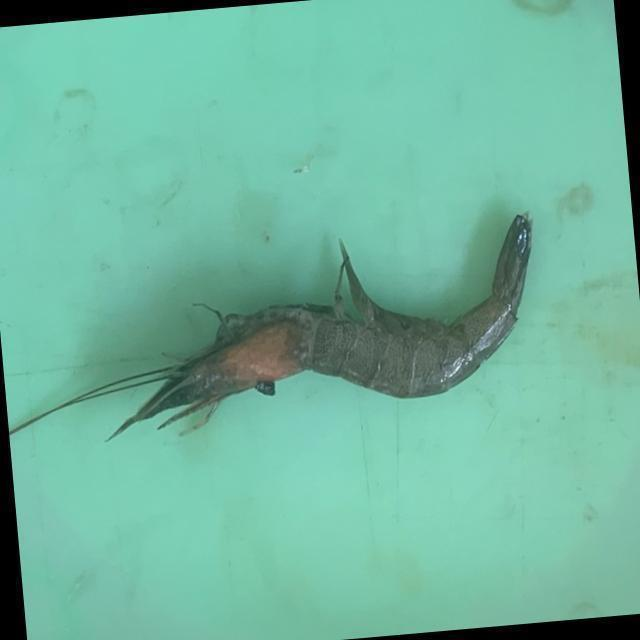shrimp: (9, 215, 531, 438)
